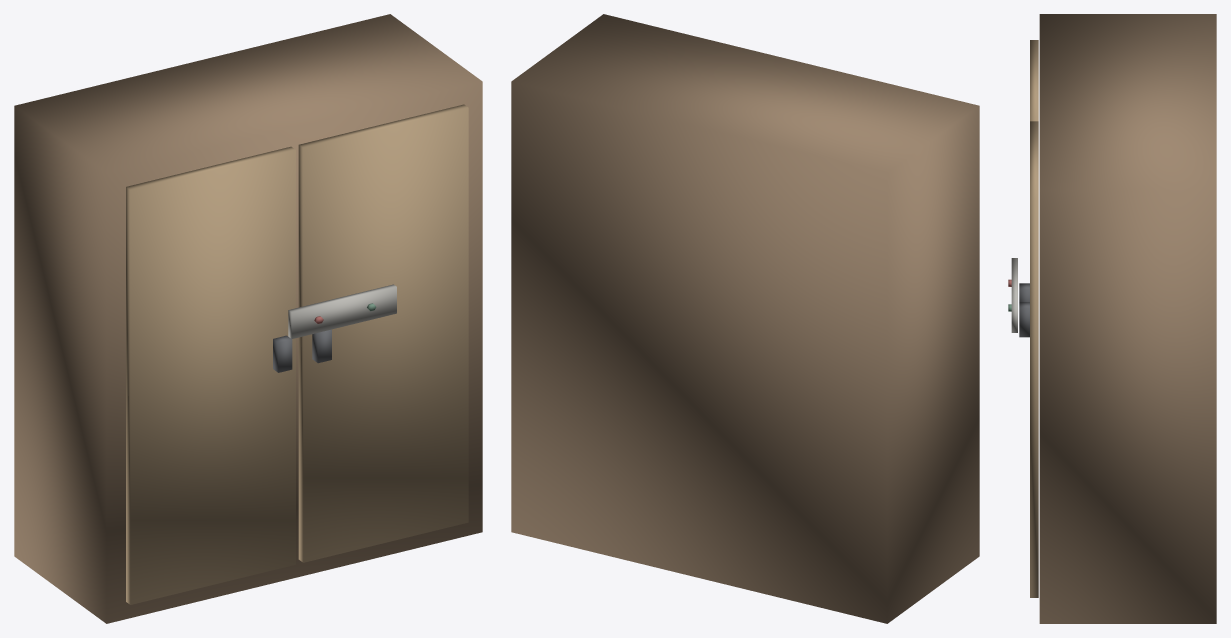
Rendered from evidence_cabinet__wide.glb.
3 renders of one model, left to right at view 1: azimuth 30°, elevation 25°; view 2: azimuth 150°, elevation 25°; view 3: azimuth 270°, elevation 25°, orthographic. The views are drawn at different scales.
Visible parts, largest first — view 1: world; view 2: world; view 3: world.
Boxes of the visible parts, left/top/right/bottom form: world: left=14, top=14, right=482, bottom=623; world: left=511, top=14, right=979, bottom=623; world: left=1008, top=14, right=1216, bottom=623.
Size of the model in its own units: 1.18 by 1.35 by 0.5885.
